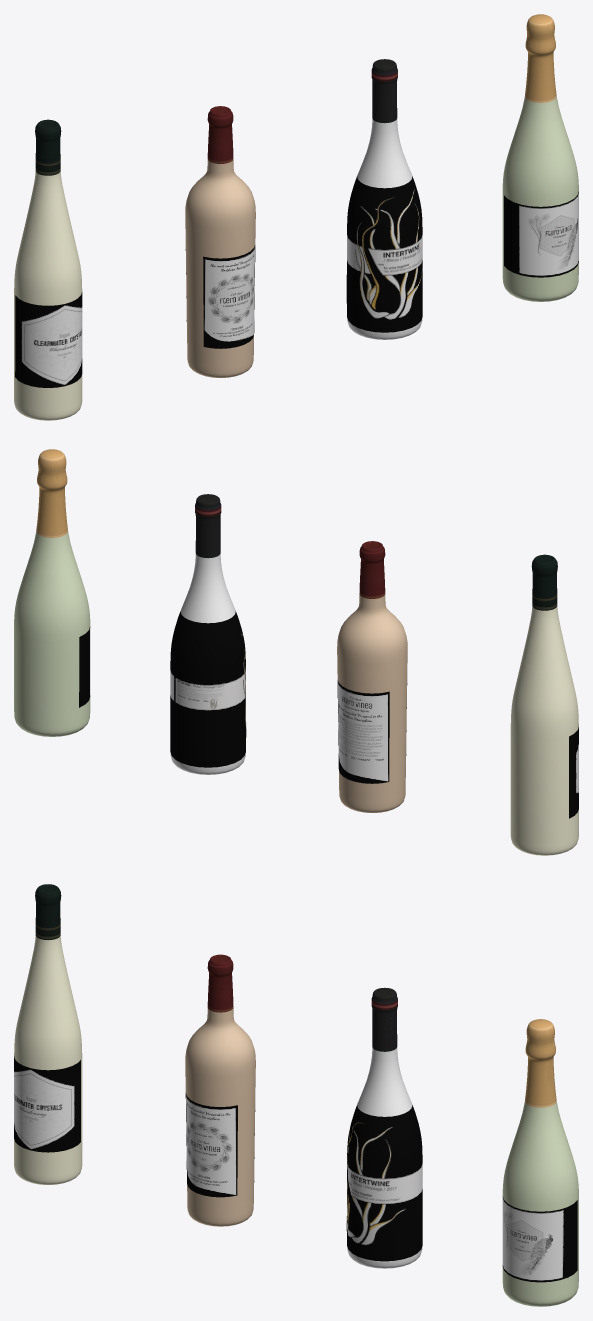
Rendered from wine_bottles_01.glb.
3 renders of one model, top to bottom at view 1: azimuth 30°, elevation 25°; view 2: azimuth 150°, elevation 25°; view 3: azimuth 330°, elevation 25°, orthographic.
Parts seen in each view (by area): view 1: wine_bottles_01_champagne, wine_bottles_01_alsace, wine_bottles_01_burgundy, wine_bottles_01_bordeaux; view 2: wine_bottles_01_champagne, wine_bottles_01_alsace, wine_bottles_01_burgundy, wine_bottles_01_bordeaux; view 3: wine_bottles_01_champagne, wine_bottles_01_alsace, wine_bottles_01_burgundy, wine_bottles_01_bordeaux.
Part boxes in pixels (left/top/right/bottom): wine_bottles_01_champagne: left=502, top=14, right=578, bottom=301; wine_bottles_01_alsace: left=14, top=119, right=82, bottom=420; wine_bottles_01_burgundy: left=346, top=59, right=422, bottom=339; wine_bottles_01_bordeaux: left=185, top=106, right=255, bottom=377; wine_bottles_01_champagne: left=14, top=449, right=90, bottom=736; wine_bottles_01_alsace: left=510, top=554, right=578, bottom=855; wine_bottles_01_burgundy: left=170, top=494, right=246, bottom=774; wine_bottles_01_bordeaux: left=337, top=541, right=407, bottom=812; wine_bottles_01_champagne: left=502, top=1019, right=578, bottom=1306; wine_bottles_01_alsace: left=14, top=884, right=82, bottom=1184; wine_bottles_01_burgundy: left=346, top=987, right=422, bottom=1268; wine_bottles_01_bordeaux: left=185, top=954, right=255, bottom=1226.
Bounding box in the file's own units: 0.6763 × 0.3314 × 0.0806.
9 materials, 6 textured.
